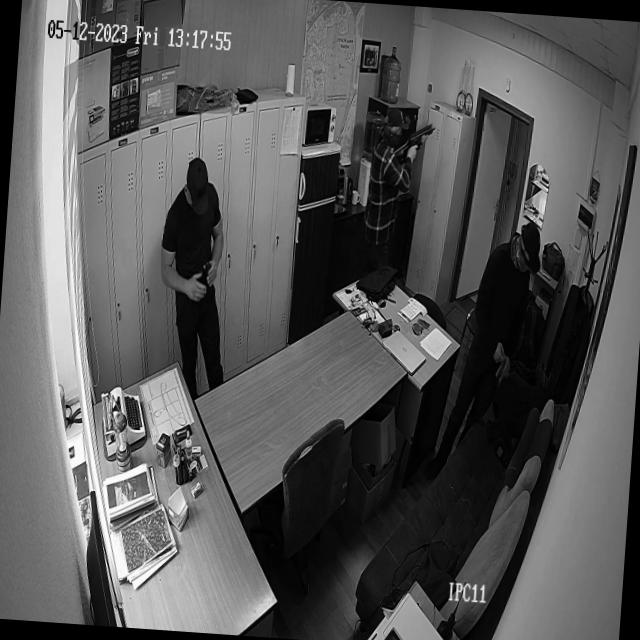gun: (392, 120, 436, 162)
person: (426, 215, 544, 490), (151, 153, 236, 396)
person with a gun: (359, 105, 437, 272)
